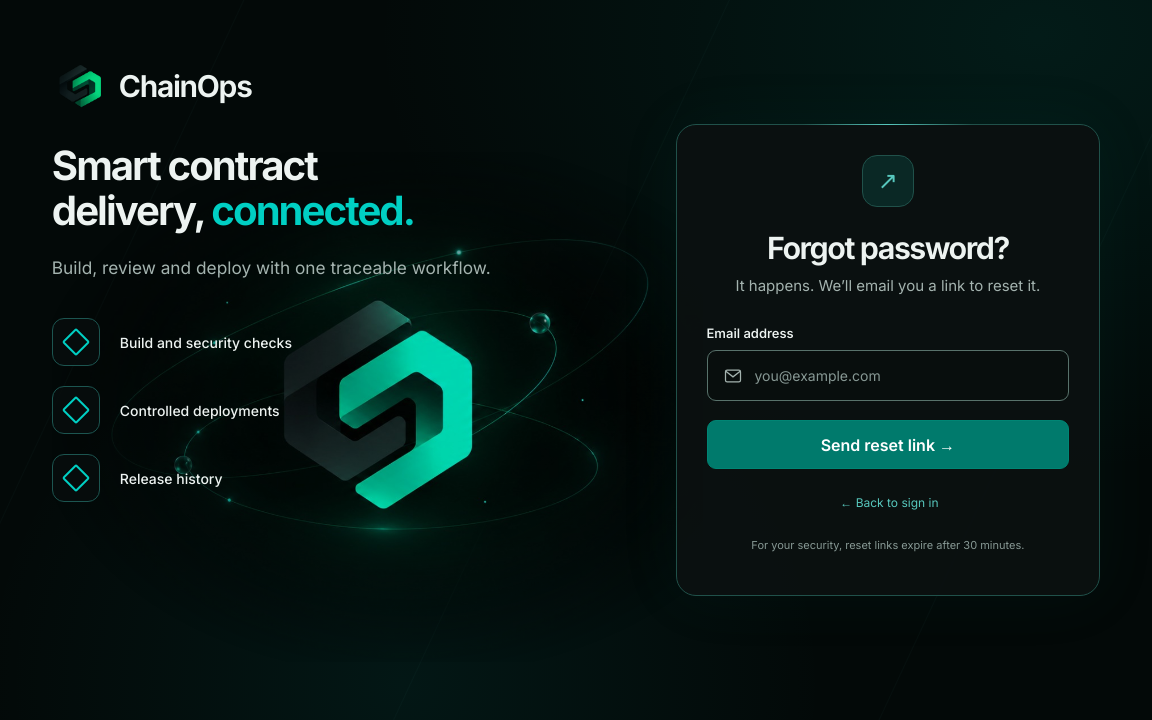
requests recovery and shows the generic email response
Type "member@example.test" into the field labelled "Email address". click: (888, 376)
box: [706, 350, 1069, 401]
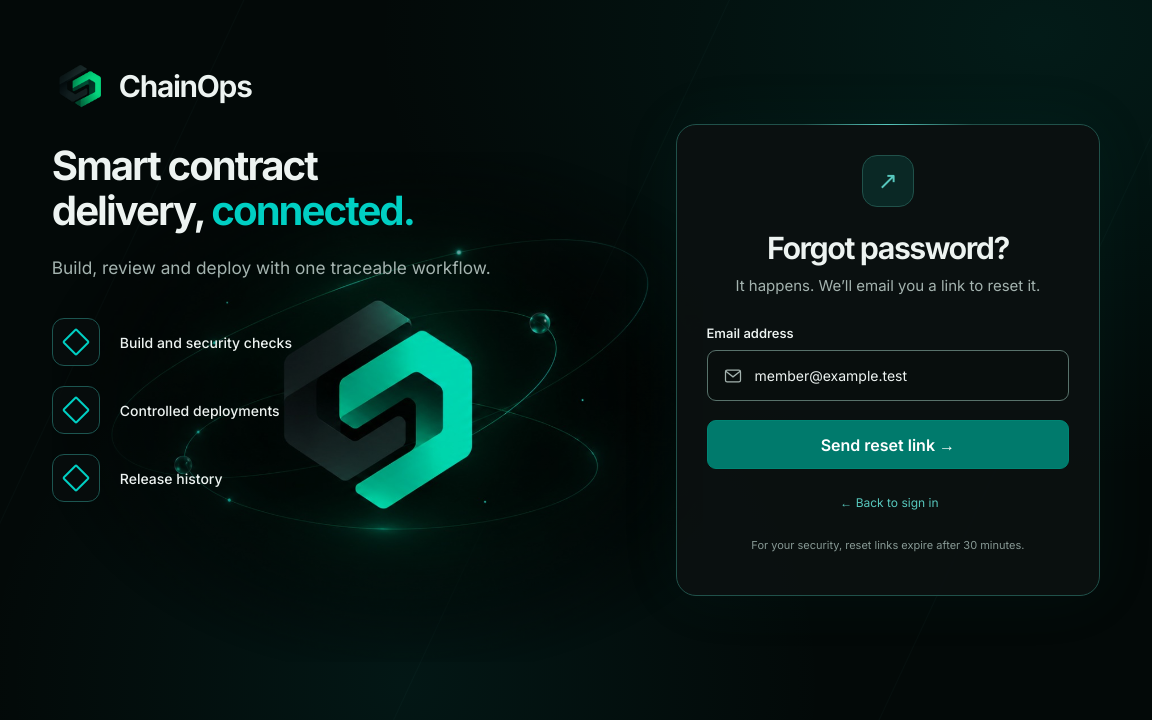
Click the button "Send reset link →". click: (888, 445)
box: [706, 420, 1069, 469]
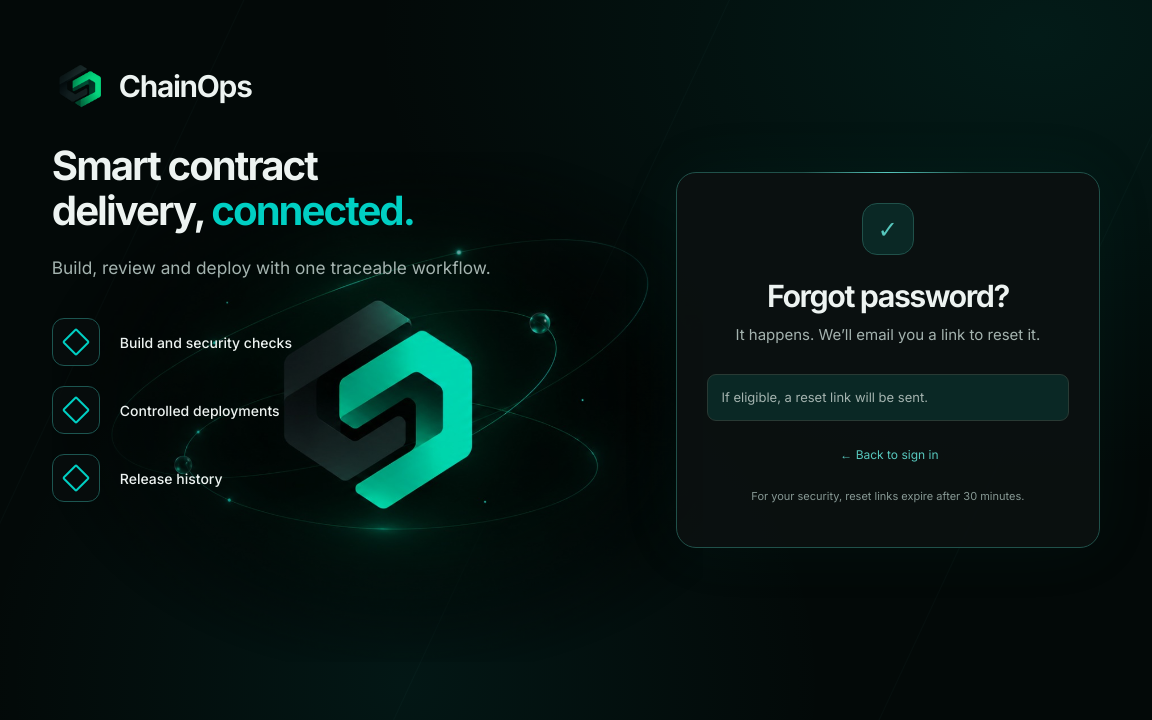
Check: the message "If eligible, a reset link will be sent." is shown, box [706, 374, 1069, 421]
